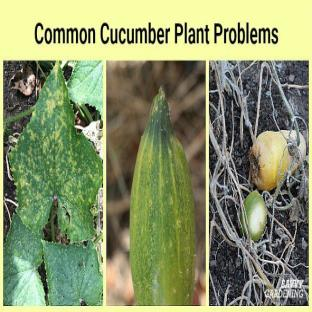Cucumber: (131, 88, 195, 305)
